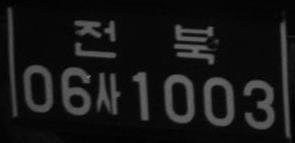0: (203, 76, 235, 128), (163, 73, 195, 124), (23, 64, 53, 113)
1: (129, 71, 155, 121)
3: (243, 78, 275, 130)
6: (60, 66, 92, 116)
사: (94, 71, 120, 115)
전북_D: (73, 17, 216, 65)
